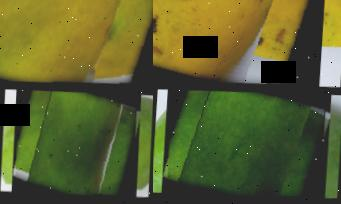PartiallyRipe: (0, 0, 153, 89)
Ripe: (153, 0, 322, 89)
Unripe: (165, 89, 327, 203), (14, 89, 138, 202)
